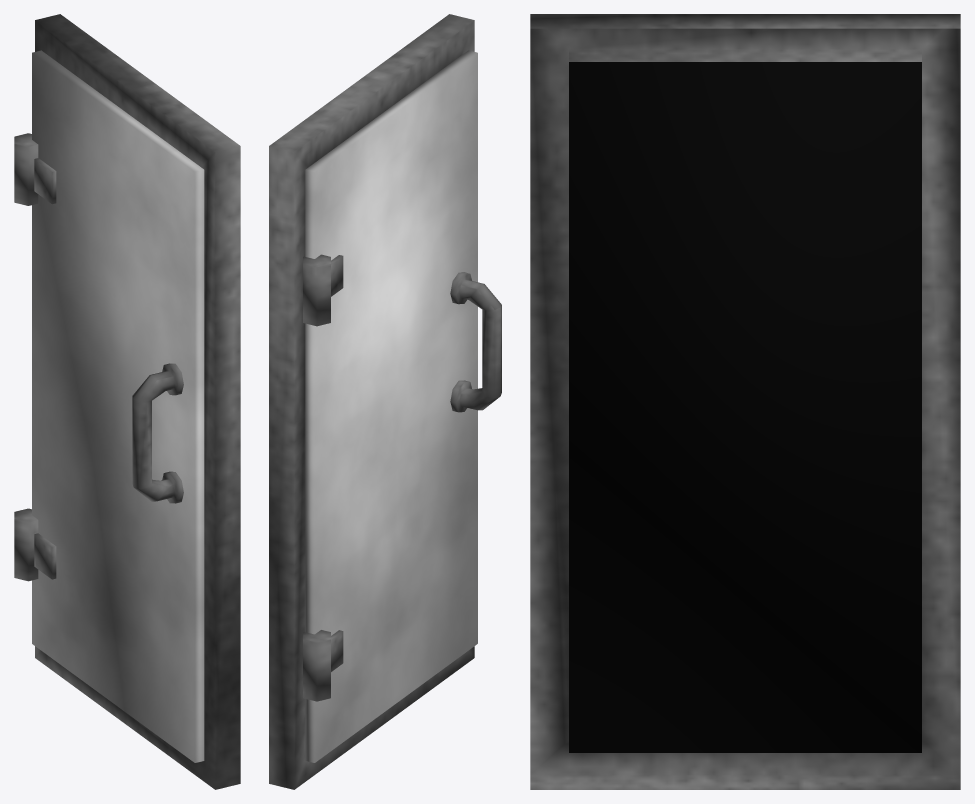
Rendered from Dor_Exit.fbx.
3 views of the same model, side by side, from view 1: azimuth 30°, elevation 25°; view 2: azimuth 150°, elevation 25°; view 3: azimuth 270°, elevation 25° (orthographic). The views are drawn at different scales.
Visible parts, largest first — view 1: Door, Dor; view 2: Door, Dor; view 3: Dor.
Part boxes in pixels (x1=…): Door: x1=14, y1=50, x2=204, y2=762; Dor: x1=35, y1=14, x2=240, y2=789; Door: x1=303, y1=50, x2=501, y2=762; Dor: x1=269, y1=14, x2=474, y2=789; Dor: x1=530, y1=14, x2=960, y2=789.
Size of the model in its own units: 28.01 by 216 by 111.
1 material, 1 textured.
